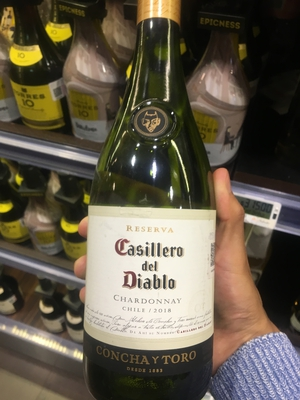casillero del diablo chardonnay: (86, 16, 228, 400)
